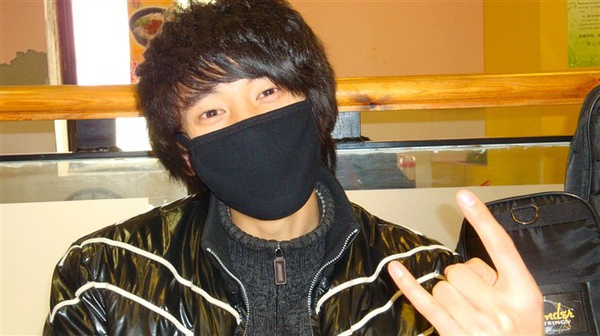face_mask: (190, 58, 313, 211)
